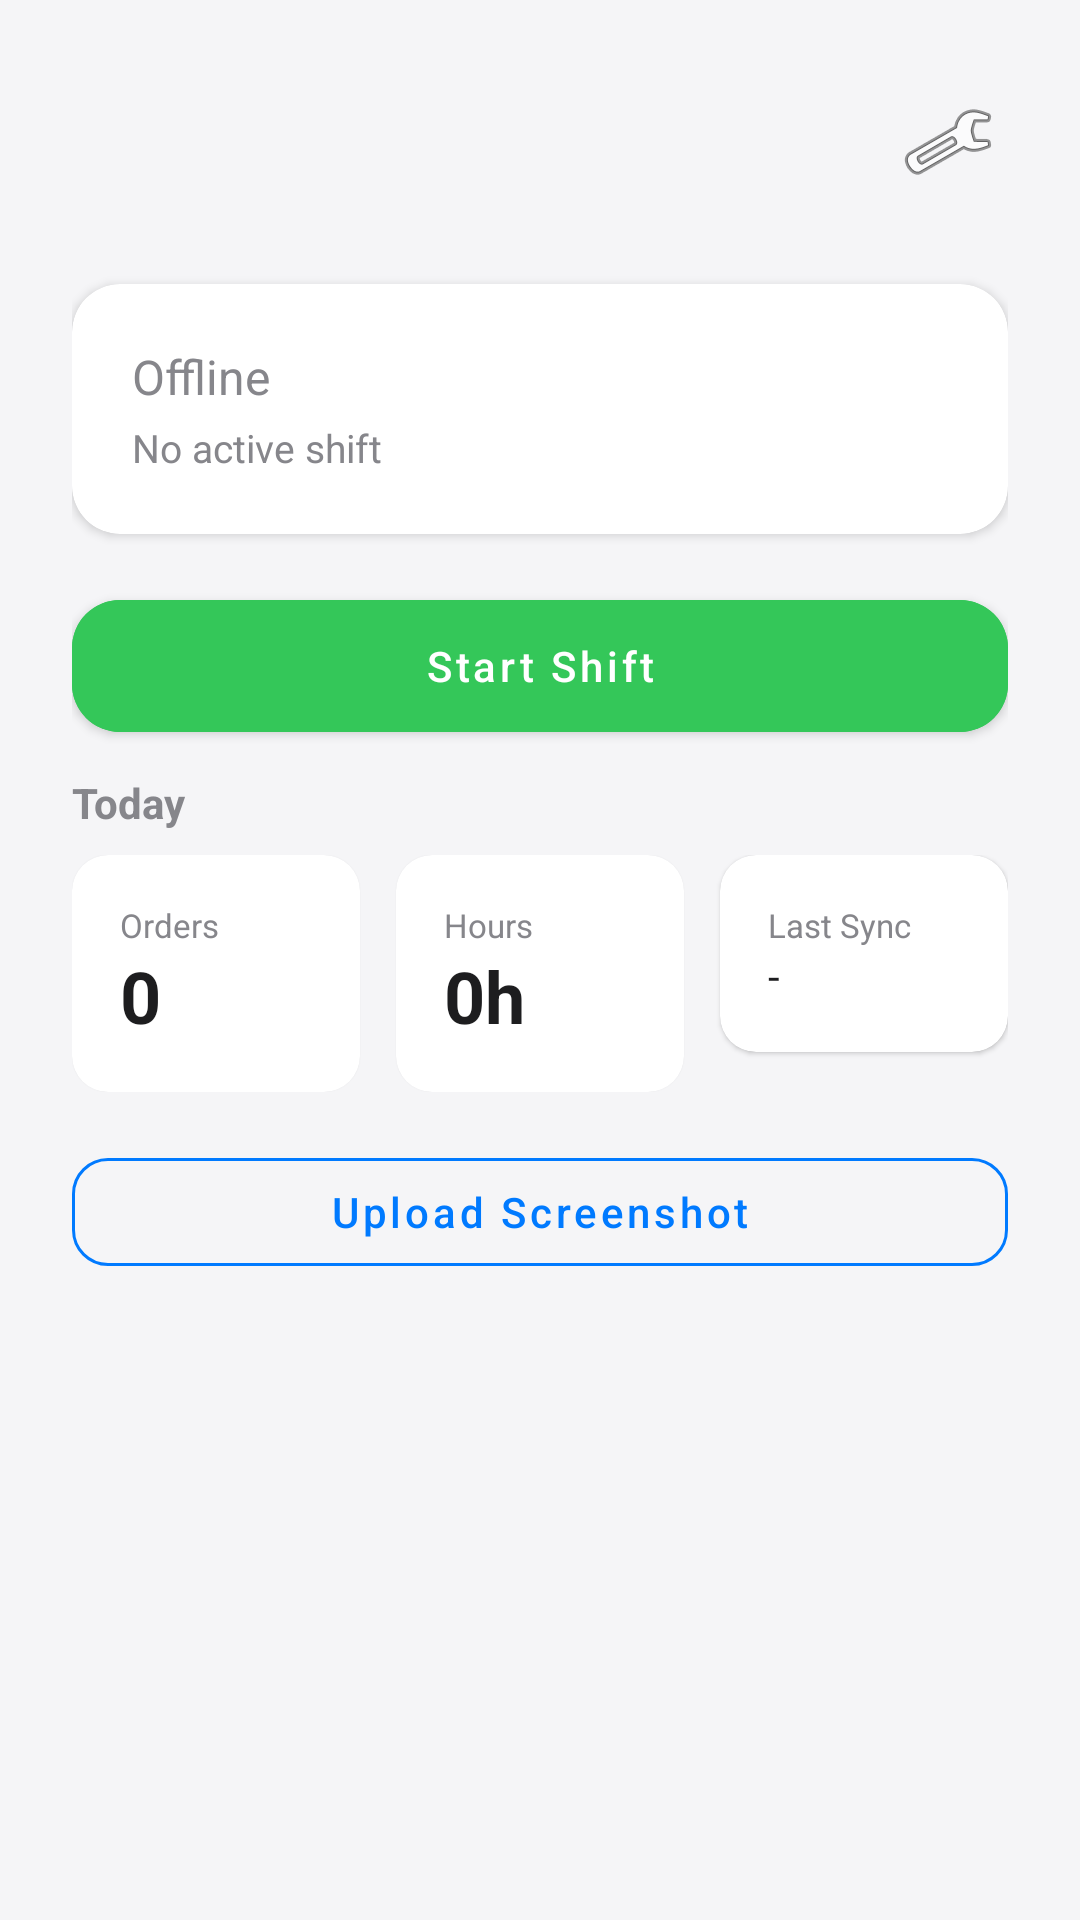

Icon click points for this 1080x1920 phone screenshot, format (x=x, y=y):
Settings: (x=948, y=142)
